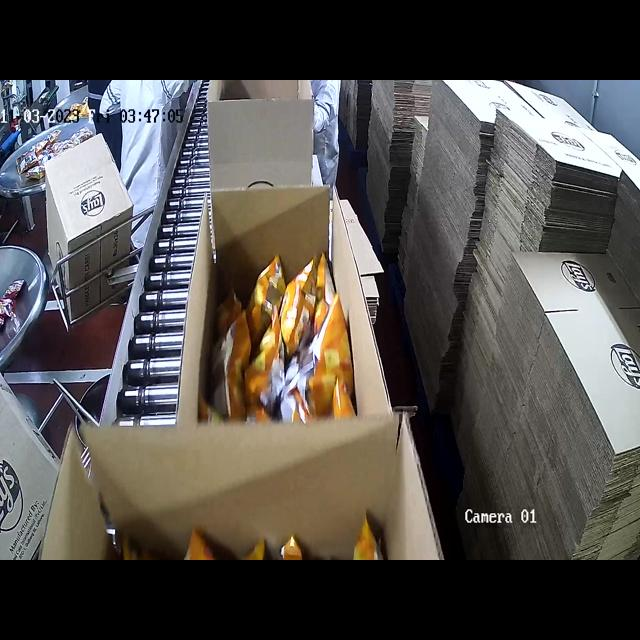cheese: (218, 271, 358, 420), (136, 507, 372, 560)
